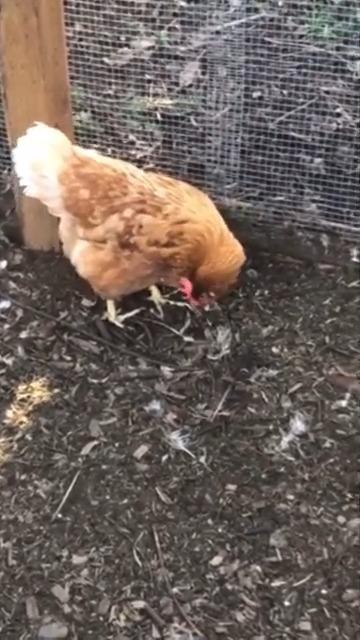AbNormal: (19, 127, 247, 327)
